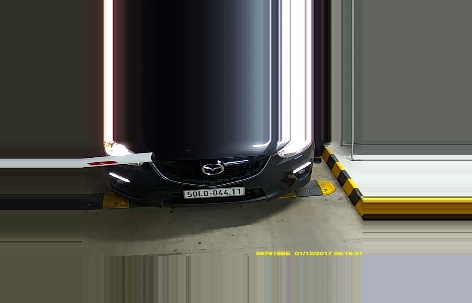plate: (182, 184, 246, 198)
